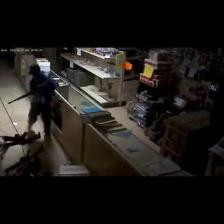person: (28, 65, 55, 138)
